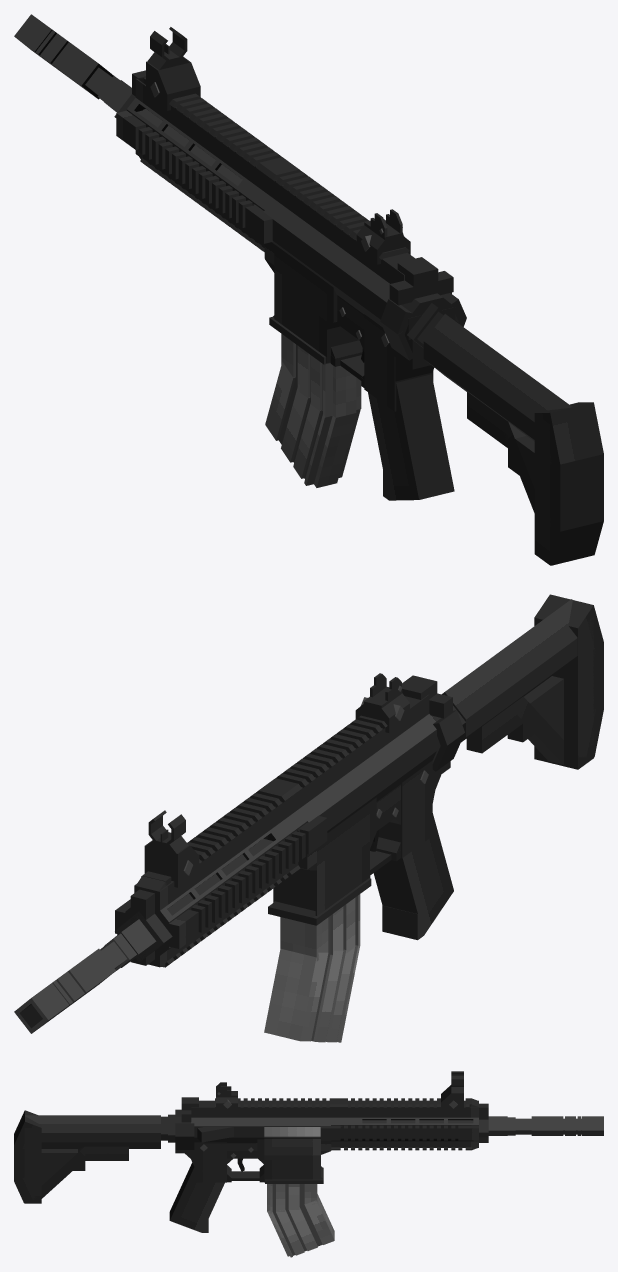
3 renders of one model, top to bottom at view 1: azimuth 30°, elevation 25°; view 2: azimuth 150°, elevation 25°; view 3: azimuth 270°, elevation 25°, orthographic. The views are drawn at different scales.
Parts seen in each view (by area): view 1: cube_36, cube_1, cube_7, cube_56, cube_8, cube_41, cube_9, cube_4, cube_38, cube_63, cube_275, cube_10 (+17 smaller); view 2: cube_56, cube_1, cube_7, cube_36, cube_34, cube_4, cube_41, cube_38, cube_63, cube_9, cube_247, cube_6 (+25 smaller); view 3: cube_7, cube_1, cube_36, cube_42, cube_56, cube_0, cube_38, cube_63, cube_4, cube_60, cube_43, cube_34 (+31 smaller).
Part boxes in pixels (x1,y1,x2,y2): cube_36: (368,374,454,500); cube_1: (424,314,572,421); cube_7: (135,78,414,283); cube_56: (274,244,358,362); cube_8: (550,454,603,531); cube_41: (263,199,426,318); cube_9: (535,402,603,464); cube_4: (534,413,550,565); cube_38: (364,314,433,411); cube_63: (423,341,534,439); cube_275: (314,413,356,487); cube_10: (550,518,603,565); cube_56: (273,802,369,915); cube_1: (442,599,577,719); cube_7: (134,694,429,913); cube_36: (373,813,453,935); cube_34: (264,948,328,1041); cube_4: (534,617,593,769); cube_41: (298,714,440,822); cube_38: (378,760,432,858); cube_63: (462,638,577,737); cube_9: (534,594,603,664); cube_247: (280,917,328,961); cube_6: (507,676,563,742); cube_7: (191,1100,478,1117); cube_1: (25,1115,160,1132); cube_36: (169,1162,224,1232); cube_42: (175,1116,330,1126); cube_56: (264,1155,320,1182); cube_0: (331,1120,478,1138); cube_38: (194,1142,226,1182); cube_63: (41,1133,160,1142); cube_4: (24,1128,41,1203); cube_60: (331,1141,478,1147); cube_43: (264,1138,320,1155); cube_34: (304,1194,334,1244).
Bounding box in the file's own units: 0.0958 × 0.3917 × 1.16.
1 material, 1 textured.
